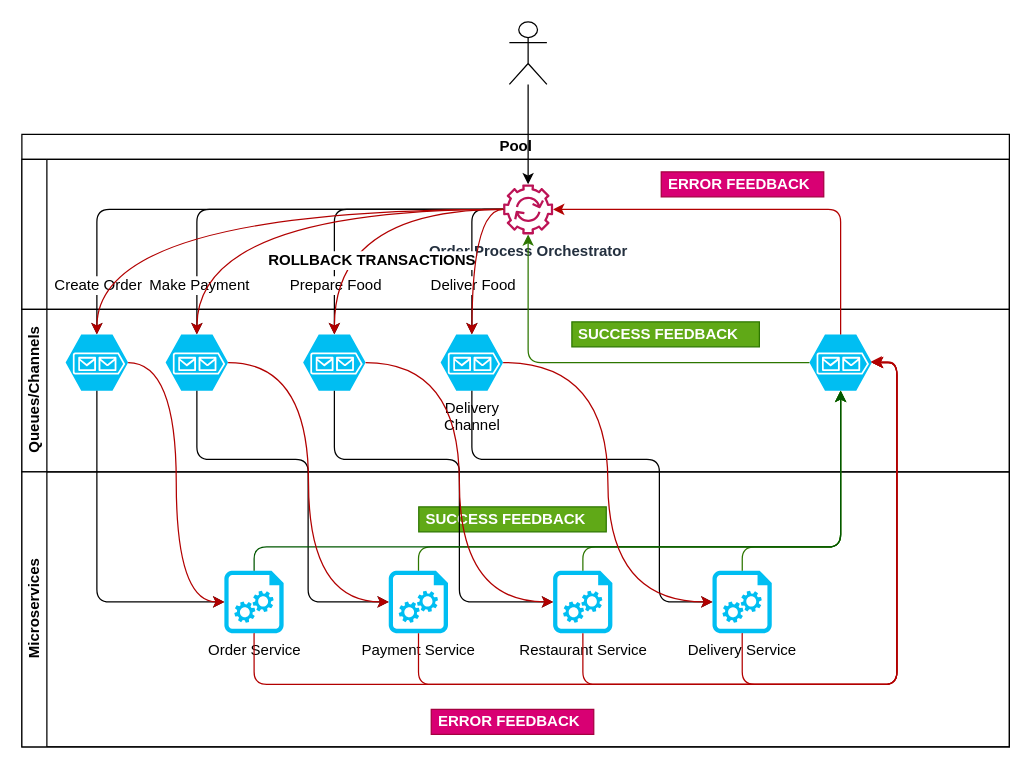
Some shapes in this 1031 by 769 pixel diagram are drawn without their labels. Here are the shapes that lost their labels. From the top down, the box of each, then its label:
(508, 21, 547, 84): User
(21, 158, 1009, 309): Orchestration
(65, 334, 128, 390): Order Channel
(165, 334, 228, 390): Payment Channel
(302, 334, 365, 390): Restaurant Channel
(809, 334, 871, 390): Reply Channel
